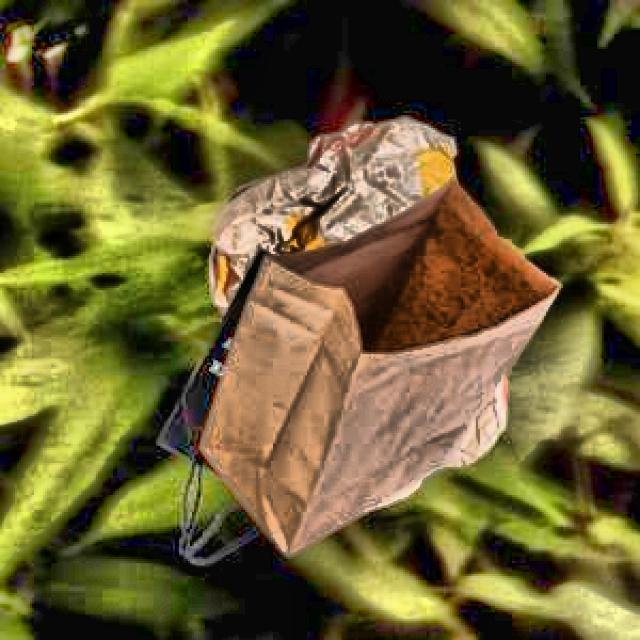Paper-bag: (182, 191, 560, 553), (201, 108, 509, 466)
